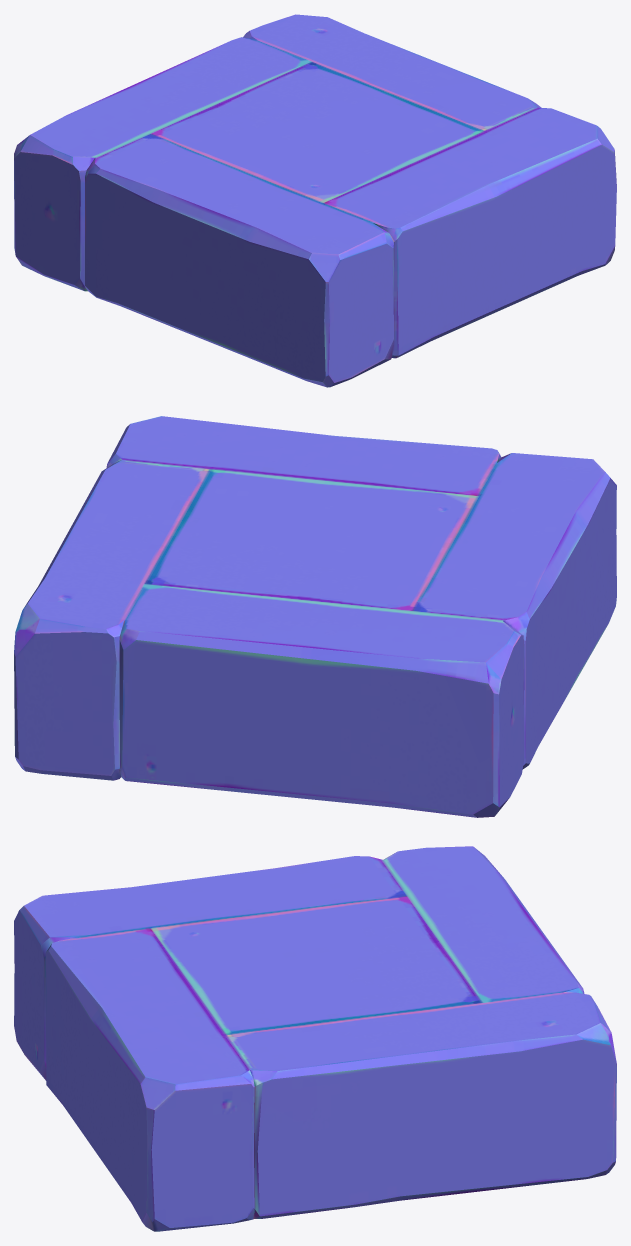
Rendered from NvShen_shidun02_fbx.fbx.
3 renders of one model, top to bottom at view 1: azimuth 30°, elevation 25°; view 2: azimuth 150°, elevation 25°; view 3: azimuth 270°, elevation 25°, orthographic. The views are drawn at different scales.
Visible parts, largest first — view 1: NvShen_shidun02_fbx; view 2: NvShen_shidun02_fbx; view 3: NvShen_shidun02_fbx.
Part boxes in pixels (x1,y1,x2,y2): NvShen_shidun02_fbx: [14, 14, 616, 387]; NvShen_shidun02_fbx: [14, 416, 616, 817]; NvShen_shidun02_fbx: [14, 846, 616, 1231].
Bounding box in the file's own units: 0.5528 × 0.1493 × 0.562.
